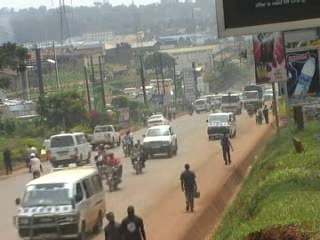Car: (146, 112, 172, 130)
Motorcycle: (103, 150, 123, 193), (129, 139, 147, 176), (21, 143, 41, 172), (92, 143, 107, 177), (120, 128, 134, 157), (187, 101, 194, 116), (210, 99, 216, 112)
